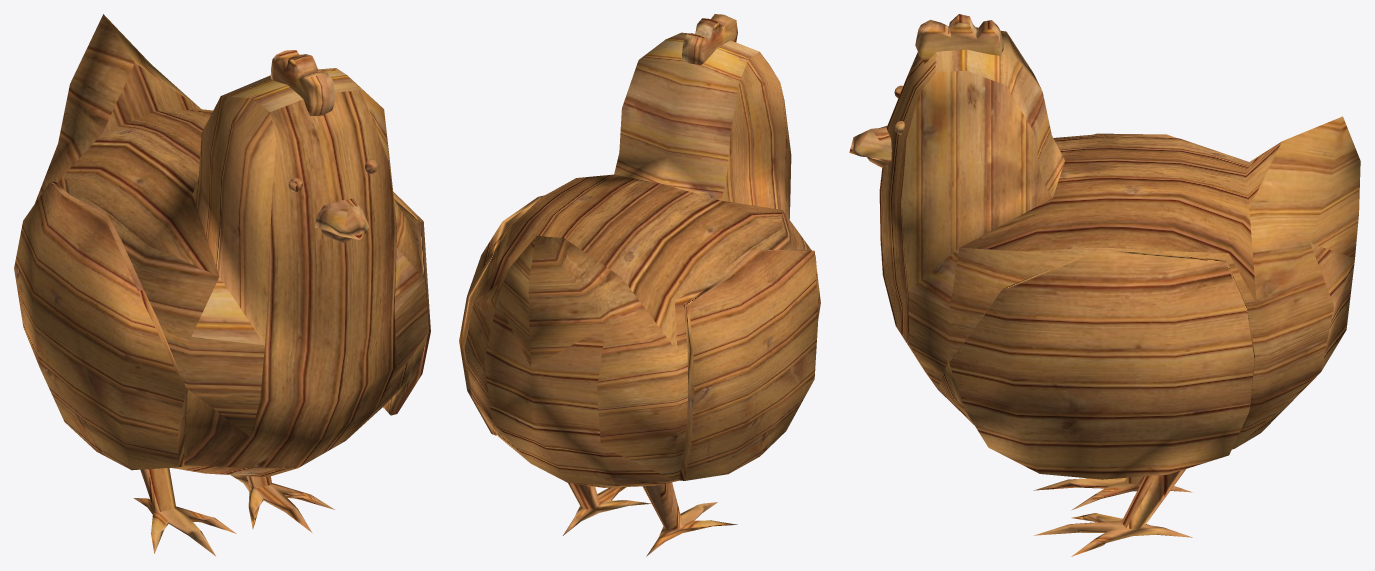
Rendered from pinocchio_chicken.obj.
3 views of the same model, side by side, from view 1: azimuth 30°, elevation 25°; view 2: azimuth 150°, elevation 25°; view 3: azimuth 270°, elevation 25° (orthographic). The views are drawn at different scales.
Visible parts, largest first — view 1: hardcore_chicken:Mesh; view 2: hardcore_chicken:Mesh; view 3: hardcore_chicken:Mesh.
Part boxes in pixels (x1,y1,x2,y2): hardcore_chicken:Mesh: (14,14,430,556); hardcore_chicken:Mesh: (459,14,820,556); hardcore_chicken:Mesh: (849,14,1360,556).
Size of the model in its own units: 2.72 by 4.24 by 3.95.
1 material, 1 textured.
